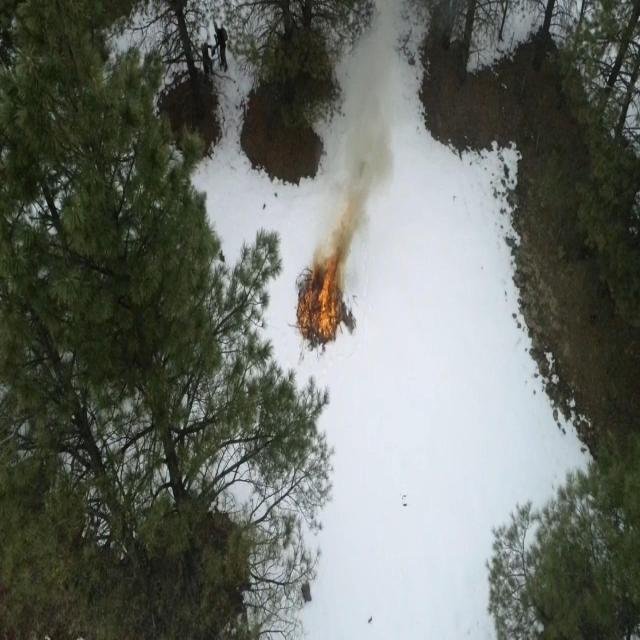Fire: (302, 256, 349, 341)
Smoke: (322, 0, 426, 244)
